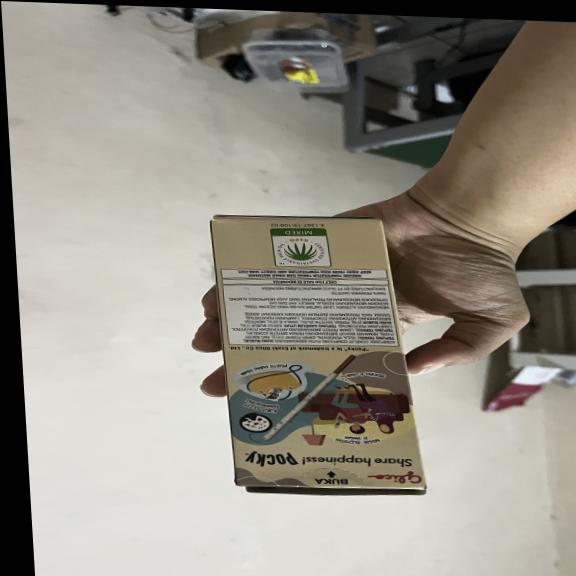Kertas: (210, 214, 419, 493)
